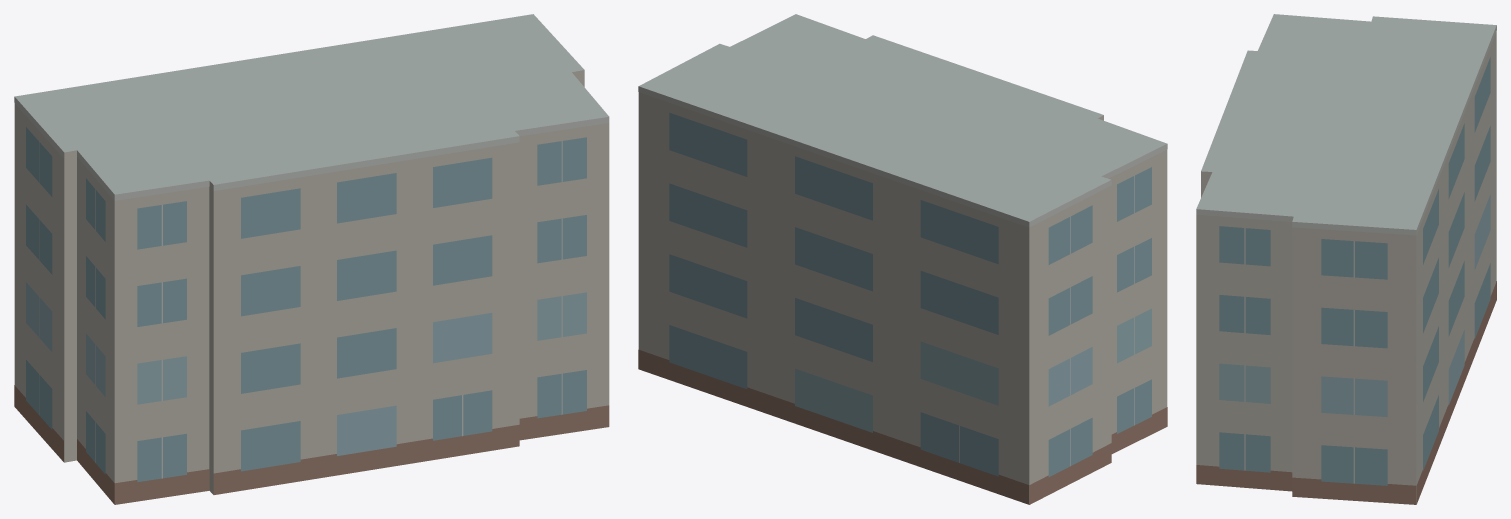
File: survey-upis-32692213.glb
3 renders of one model, left to right at view 1: azimuth 30°, elevation 25°; view 2: azimuth 150°, elevation 25°; view 3: azimuth 270°, elevation 25°, orthographic. The views are drawn at different scales.
Visible parts, largest first — view 1: survey-upis-32692213.tmp; view 2: survey-upis-32692213.tmp; view 3: survey-upis-32692213.tmp.
Boxes of the visible parts, box(x1,y1,x2,y2) form: survey-upis-32692213.tmp: box(14, 14, 609, 504); survey-upis-32692213.tmp: box(638, 14, 1167, 504); survey-upis-32692213.tmp: box(1196, 14, 1496, 504).
Bounding box in the file's own units: 20.56 × 12.2 × 12.1.
